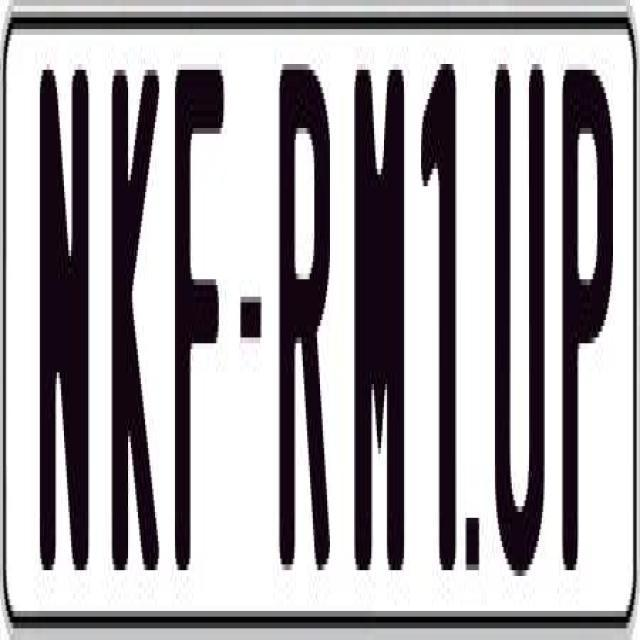1: (420, 58, 460, 588)
F: (170, 64, 220, 570)
K: (108, 70, 157, 606)
M: (352, 63, 409, 600)
N: (36, 70, 86, 576)
P: (563, 58, 617, 582)
U: (494, 47, 550, 564)
